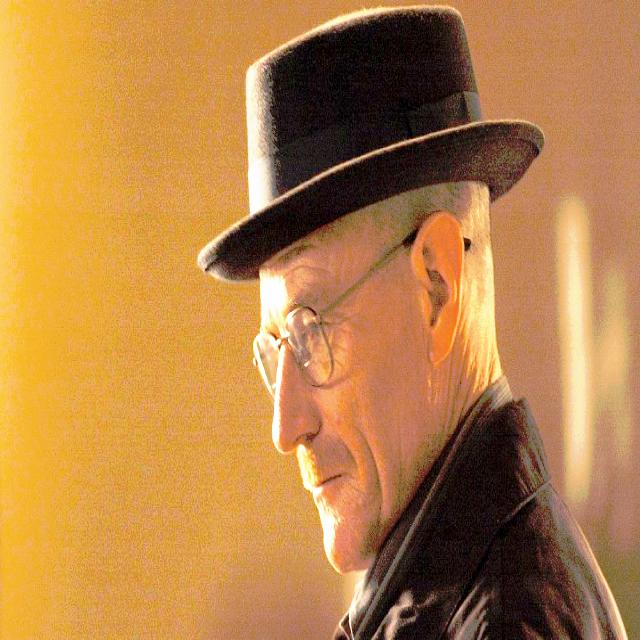KACAMATA: (235, 226, 452, 390)
TOPI: (195, 5, 550, 295)
